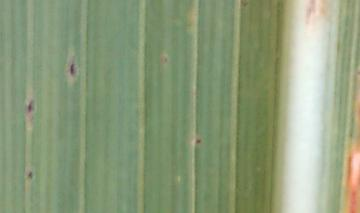tarspot: (67, 62, 77, 76), (26, 100, 35, 113), (239, 1, 251, 9), (25, 171, 34, 180), (160, 55, 169, 64), (195, 137, 202, 145)
